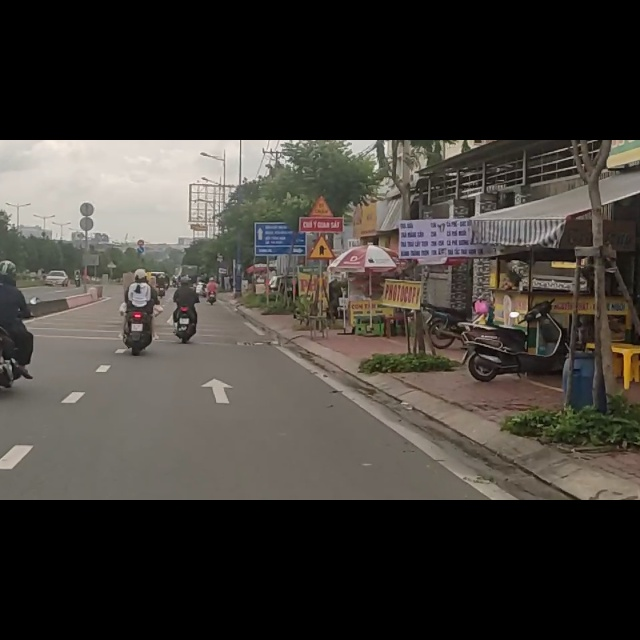bien_nguy_hiem: (307, 167, 336, 213)
